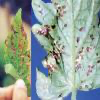Tomato leaf bacterial spot: (31, 1, 99, 99), (3, 7, 31, 95)
